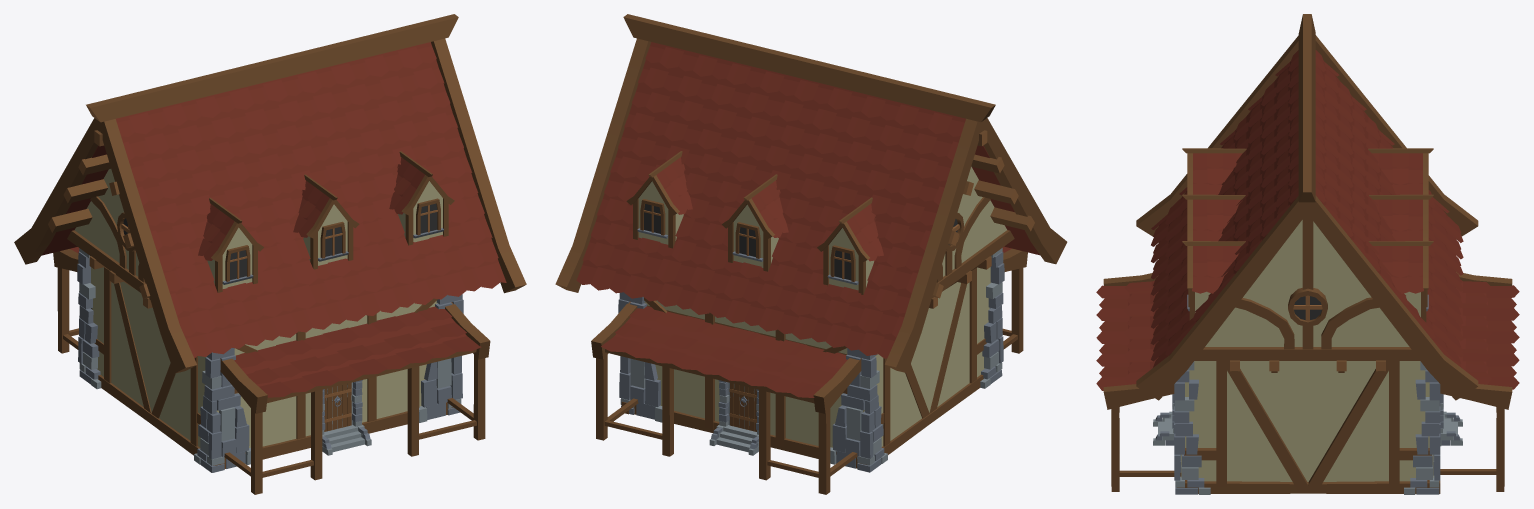
File: inn.glb
The picture shows the model from 3 angles, left to right: view 1: azimuth 30°, elevation 25°; view 2: azimuth 150°, elevation 25°; view 3: azimuth 270°, elevation 25°; orthographic projection.
Visible parts, largest first — view 1: Inn; view 2: Inn; view 3: Inn.
Part boxes in pixels (x1,y1,x2,y2): Inn: (14,14,526,494); Inn: (555,14,1067,494); Inn: (1096,14,1519,494).
Size of the model in its own units: 4.03 by 3.49 by 4.02.
